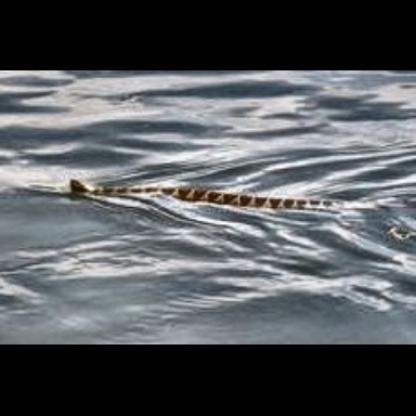Snake: (64, 165, 403, 228)
